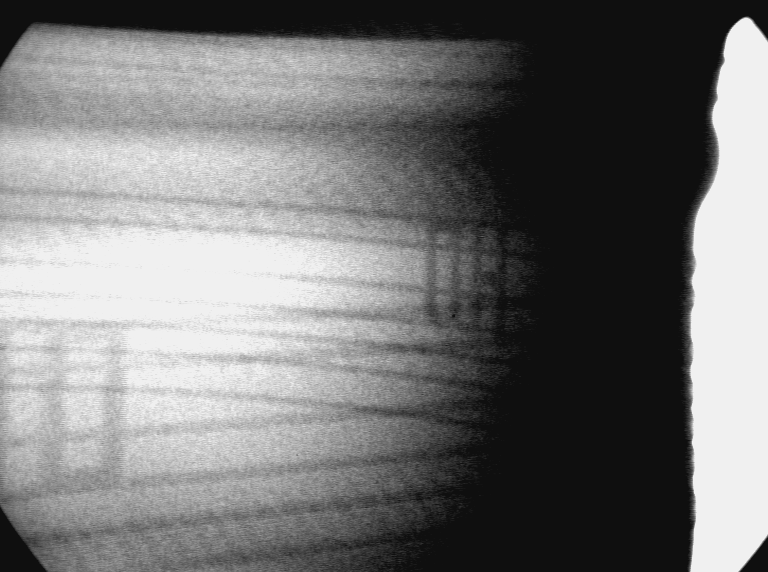defect: (2, 313, 139, 499)
